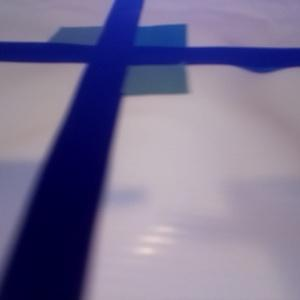bottom_right: (87, 46, 187, 95)
top_left: (48, 27, 133, 62)
top_right: (104, 24, 185, 65)
